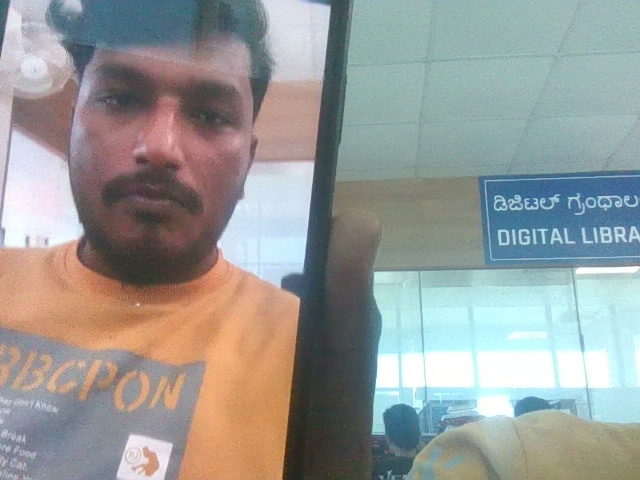fake: (42, 0, 283, 341)
